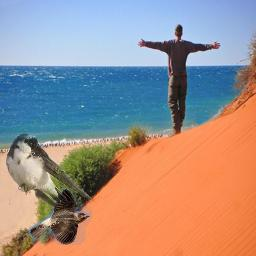Swallow: (4, 132, 96, 209), (29, 188, 92, 245)
